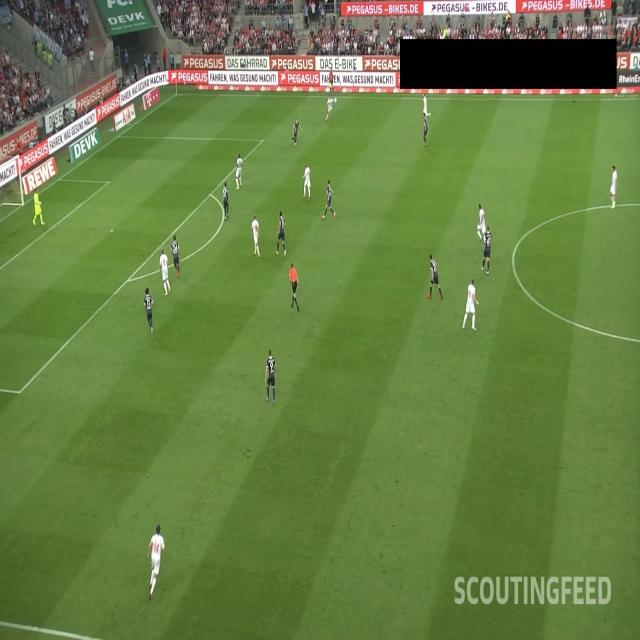ball: (333, 97, 338, 105)
